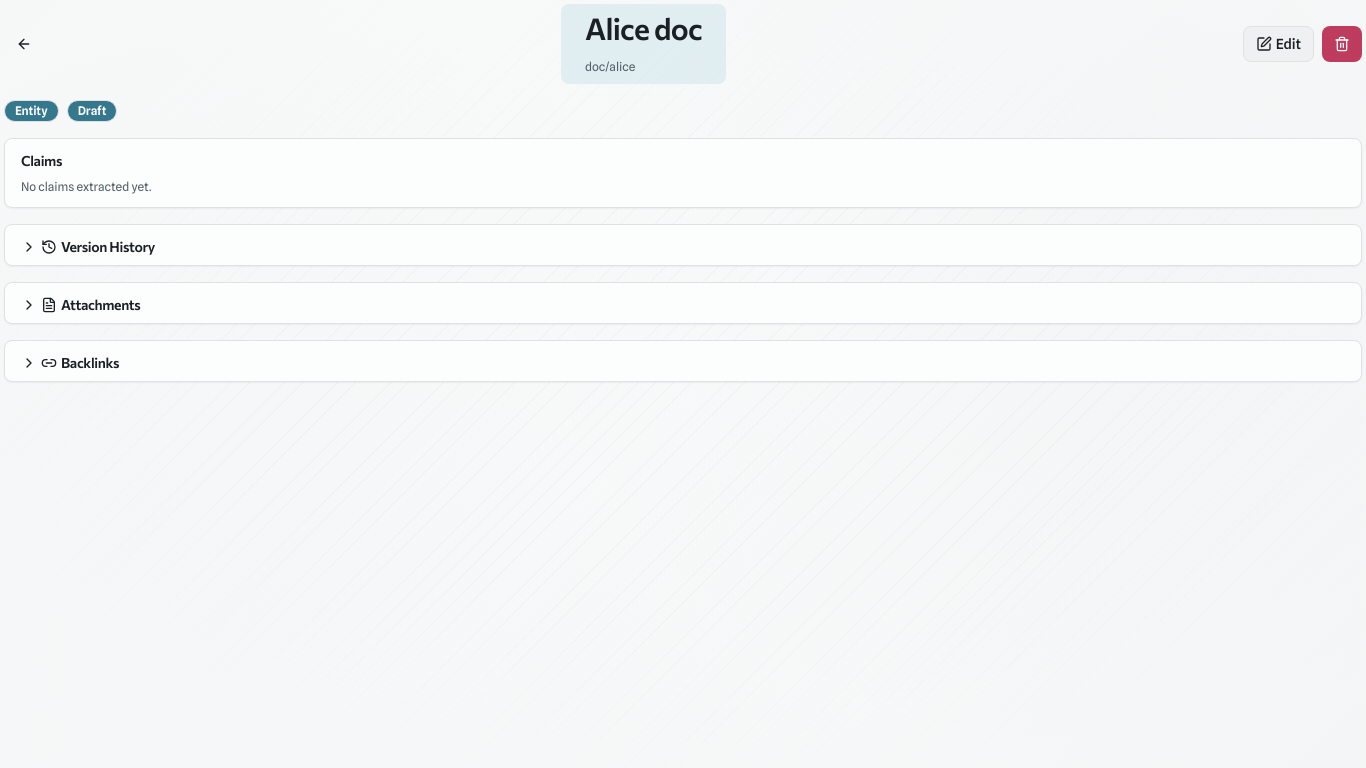
it: WikiPageDetail AttachmentsSection › fetches files on expand and renders them
Click the heading "Attachments" at (81, 304), box left=21, top=296, right=140, bottom=313
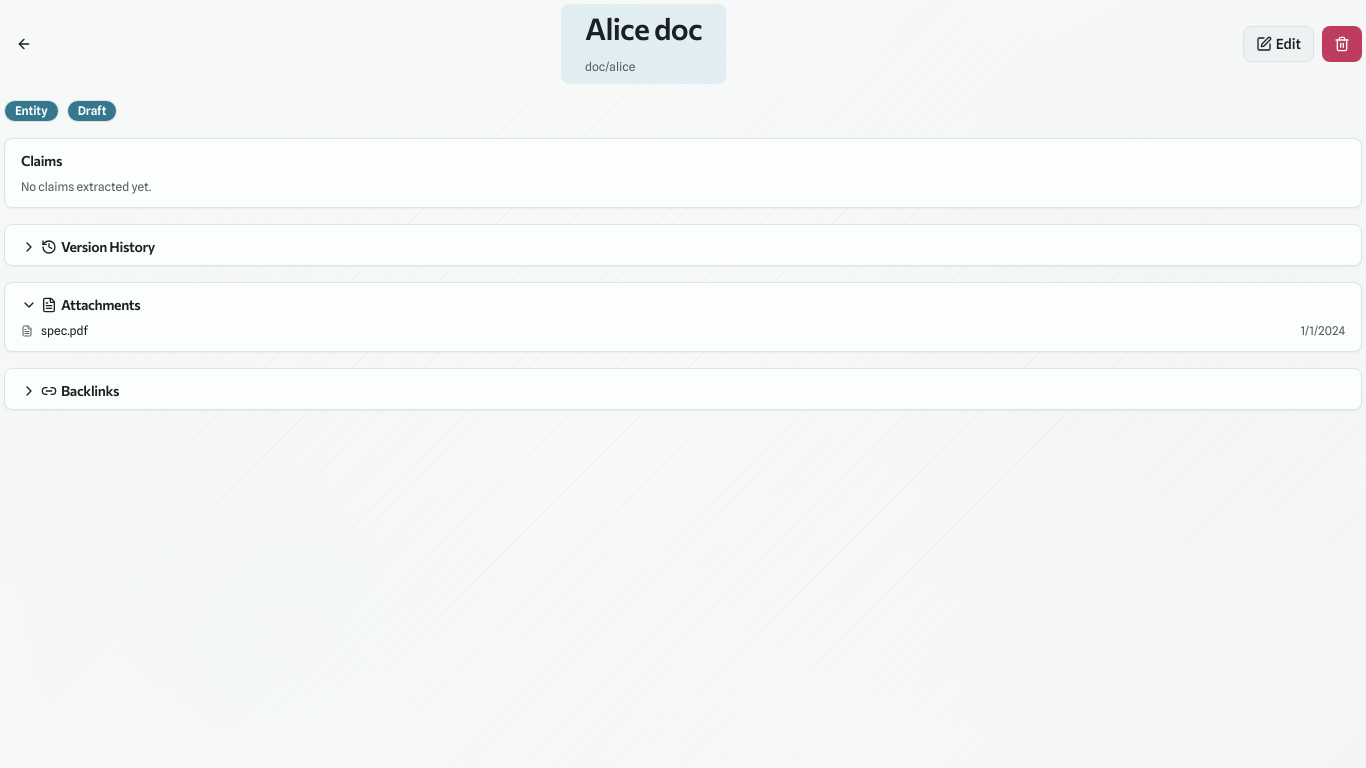
Now the text "spec.pdf" is shown, box left=41, top=323, right=88, bottom=339
